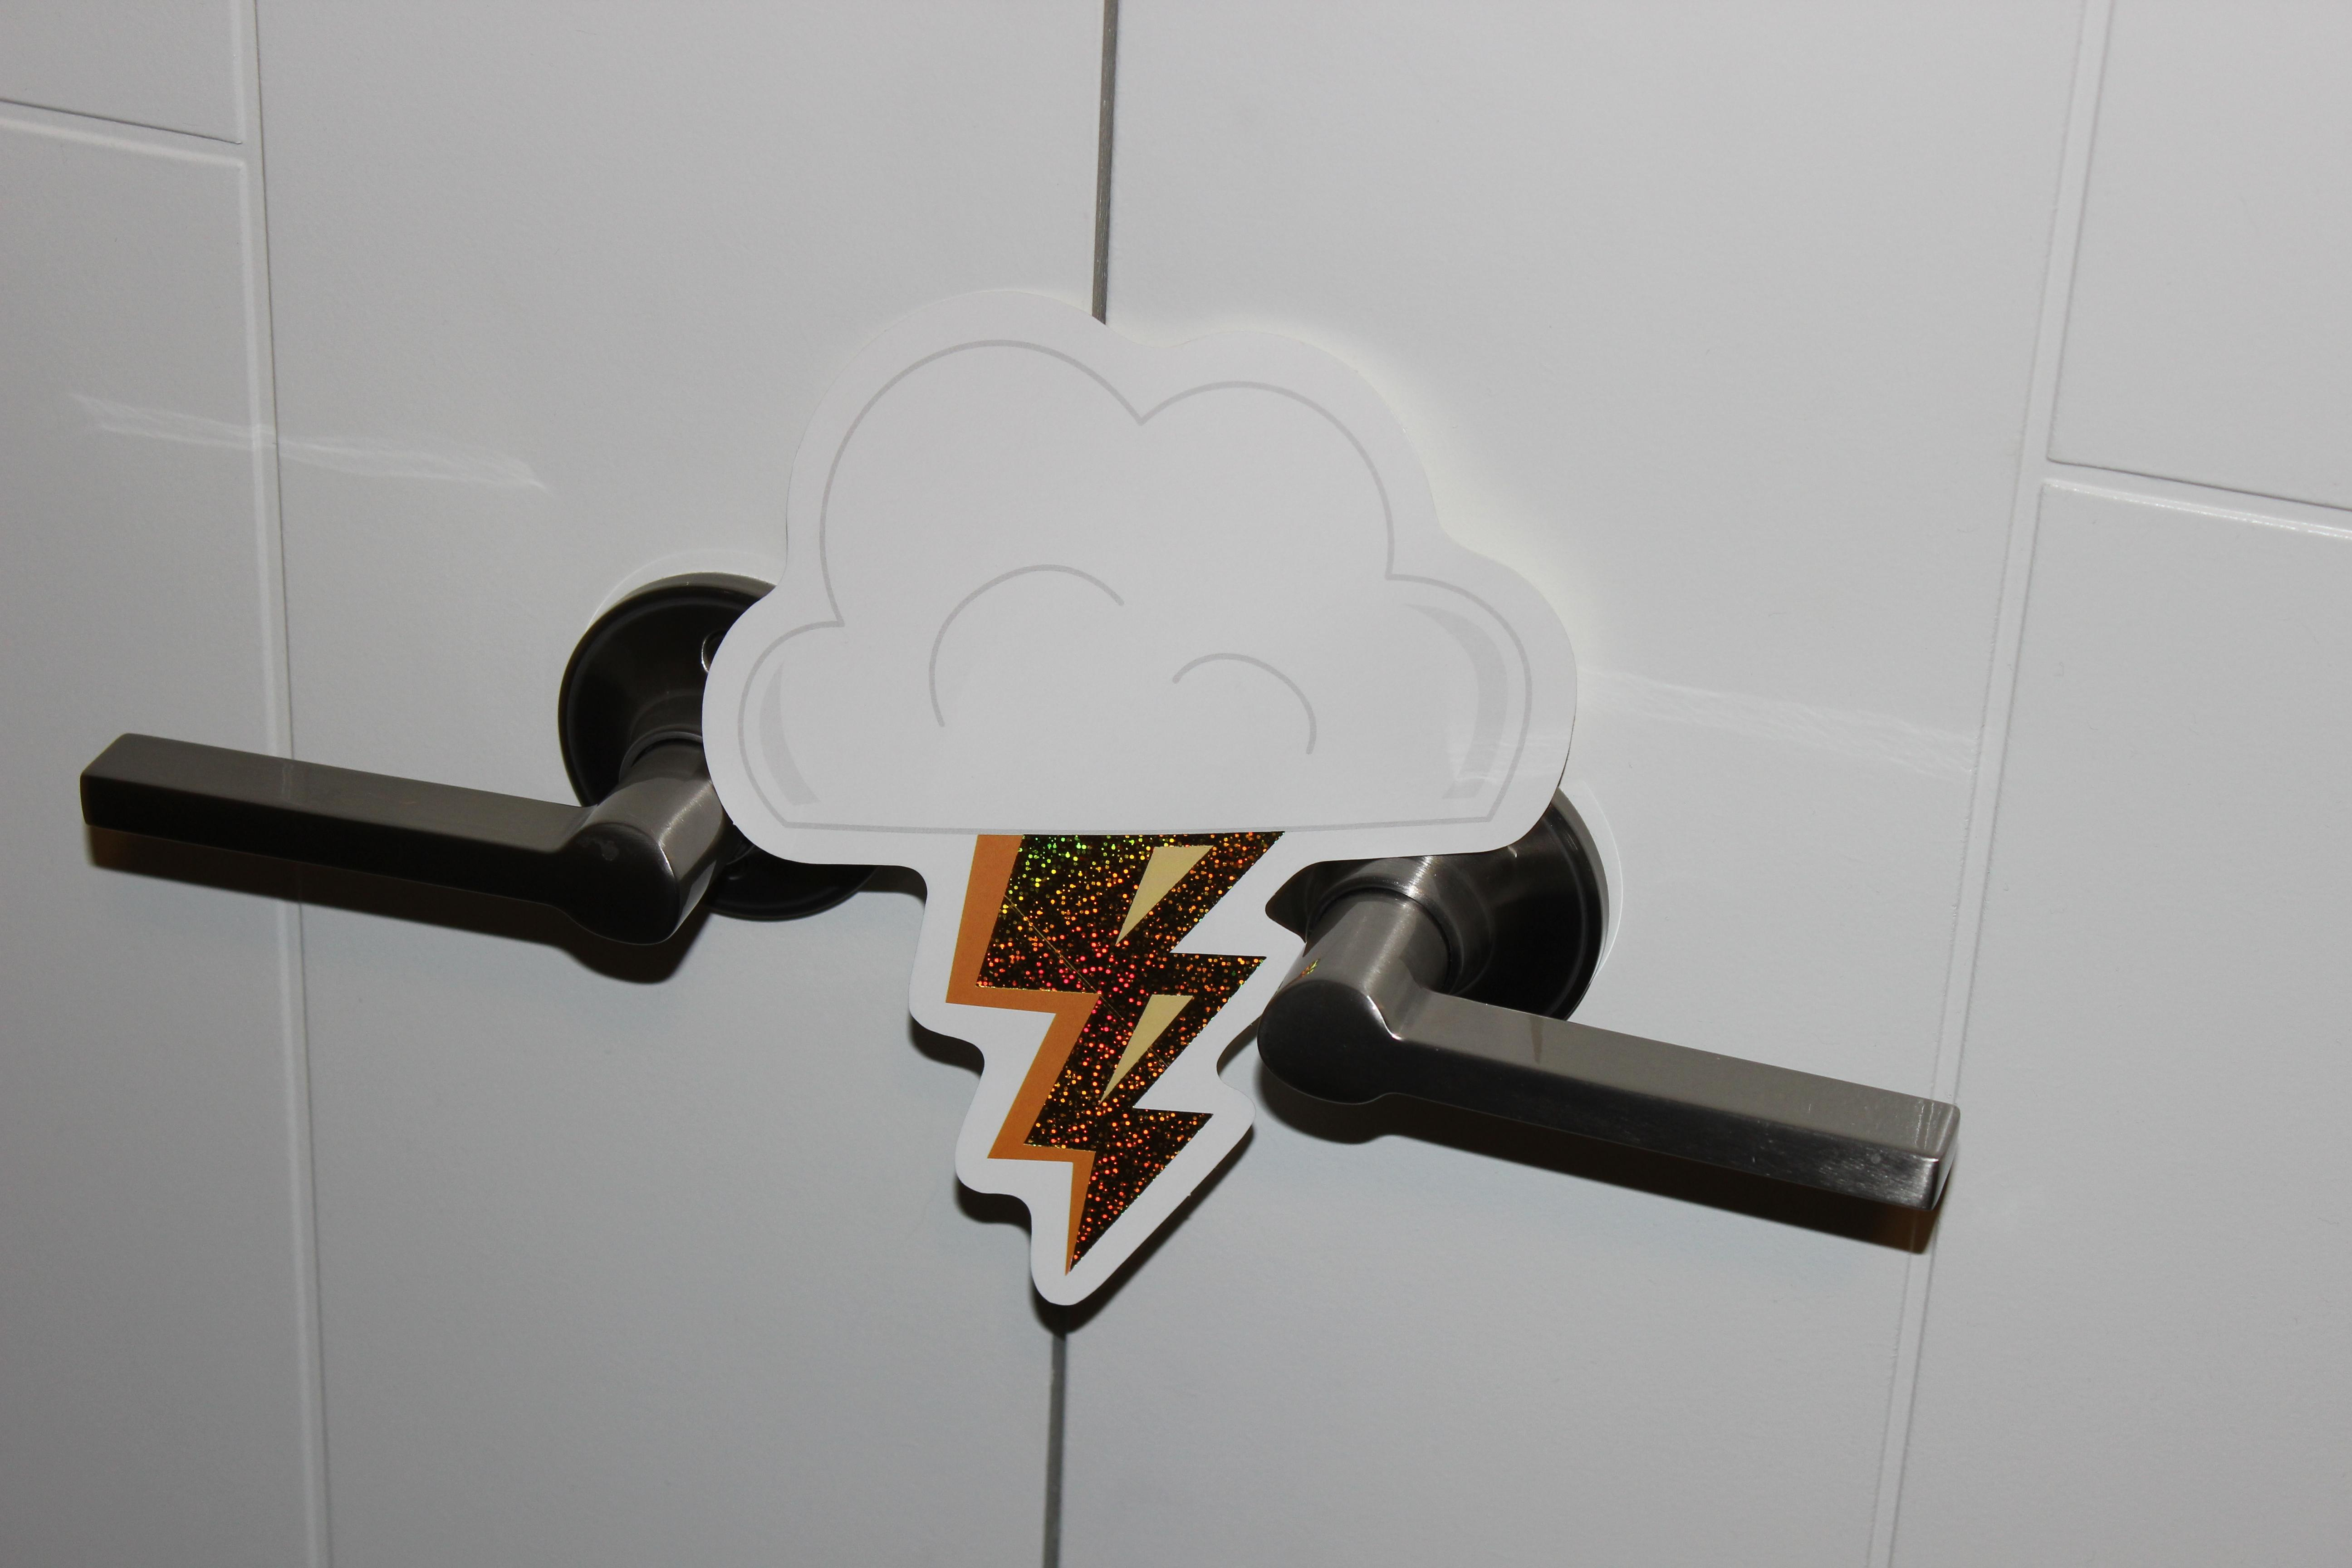cloudSign: (675, 262, 1608, 1354)
